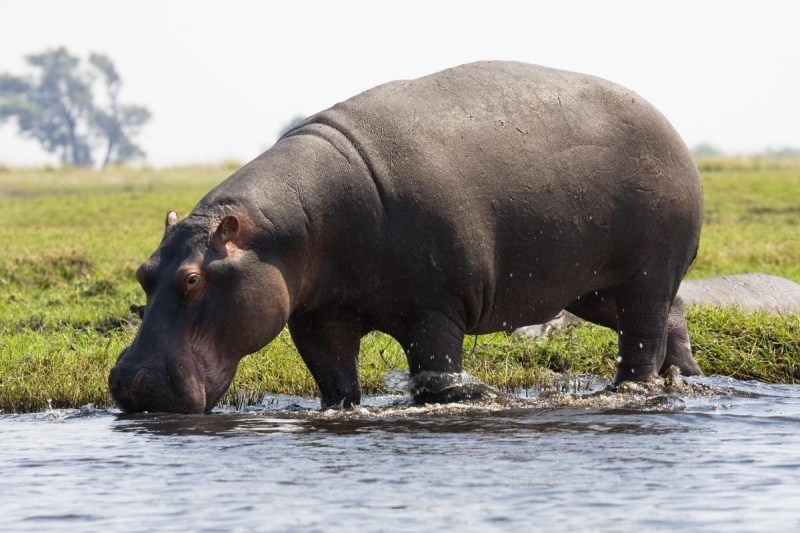hipopotamo: (93, 42, 721, 445)
